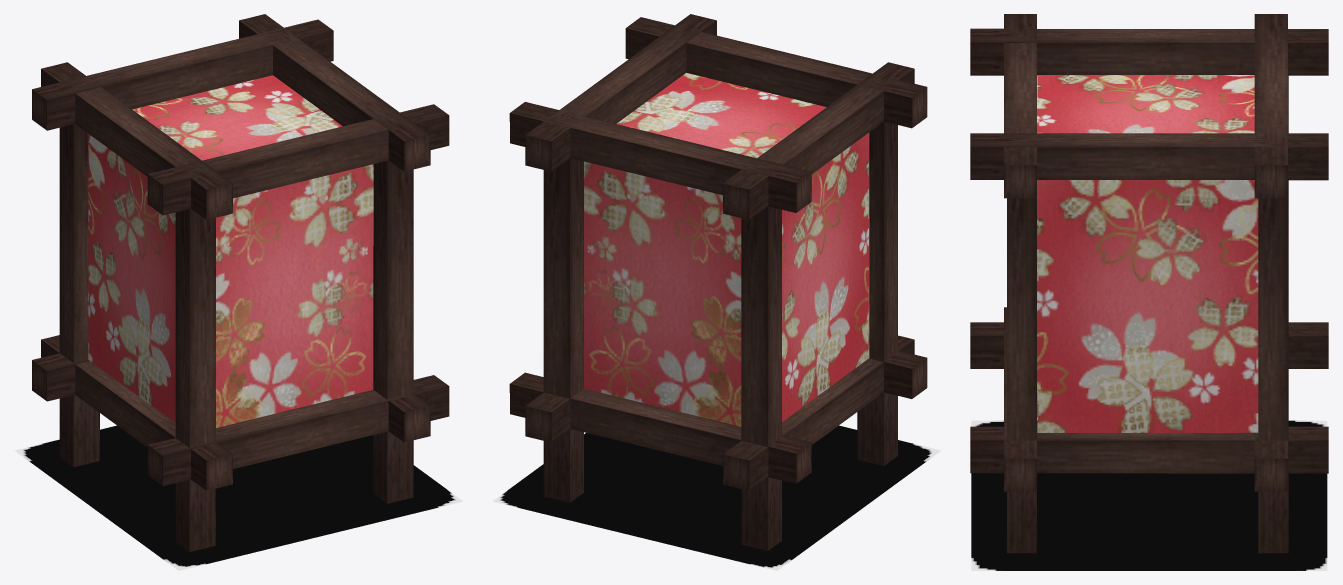
The model's file is jj_rixi_deng03.FBX.
3 views of the same model, side by side, from view 1: azimuth 30°, elevation 25°; view 2: azimuth 150°, elevation 25°; view 3: azimuth 270°, elevation 25° (orthographic). The views are drawn at different scales.
Parts seen in each view (by area): view 1: jj_rixi_deng03, shadow; view 2: jj_rixi_deng03, shadow; view 3: jj_rixi_deng03, shadow.
Part boxes in pixels (x1,y1,x2,y2): jj_rixi_deng03: (32,14,449,551); shadow: (14,425,463,570); jj_rixi_deng03: (509,14,927,550); shadow: (492,425,941,570); jj_rixi_deng03: (970,14,1328,553); shadow: (971,420,1327,570).
Bounding box in the file's own units: 32.44 × 41.13 × 32.44.
